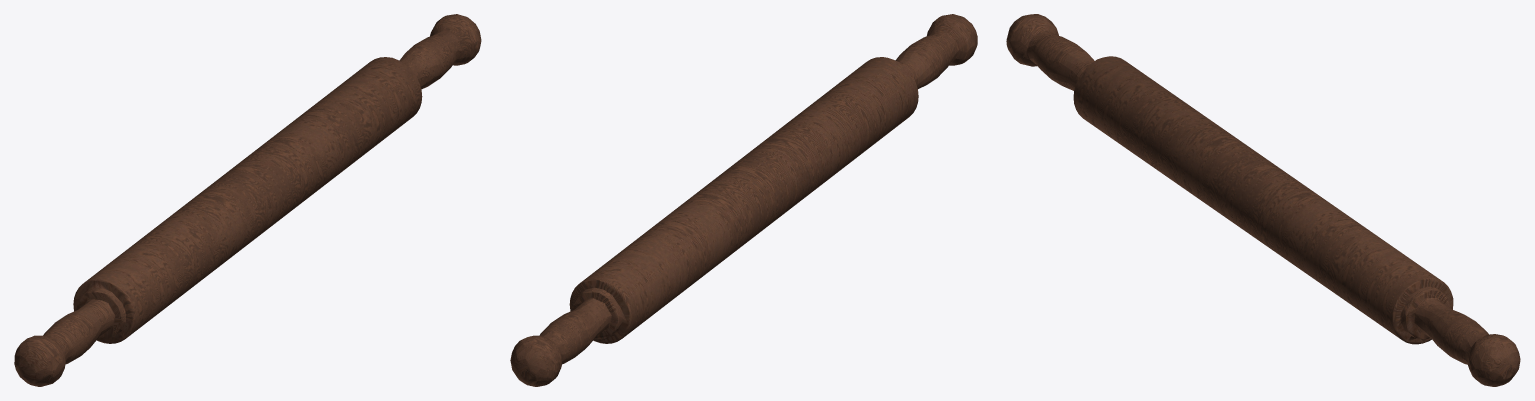
Rendered from rodillo.fbx.
3 views of the same model, side by side, from view 1: azimuth 30°, elevation 25°; view 2: azimuth 210°, elevation 25°; view 3: azimuth 270°, elevation 25° (orthographic). The views are drawn at different scales.
Parts seen in each view (by area): view 1: UtencilioRodillo; view 2: UtencilioRodillo; view 3: UtencilioRodillo.
Part boxes in pixels (bbox=[...]): UtencilioRodillo: bbox=[14, 14, 481, 386]; UtencilioRodillo: bbox=[510, 14, 977, 386]; UtencilioRodillo: bbox=[1006, 14, 1520, 386].
Bounding box in the file's own units: 2.35 × 0.2083 × 1.5.
1 material, 1 textured.
